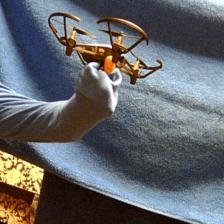drone: (46, 13, 162, 85)
